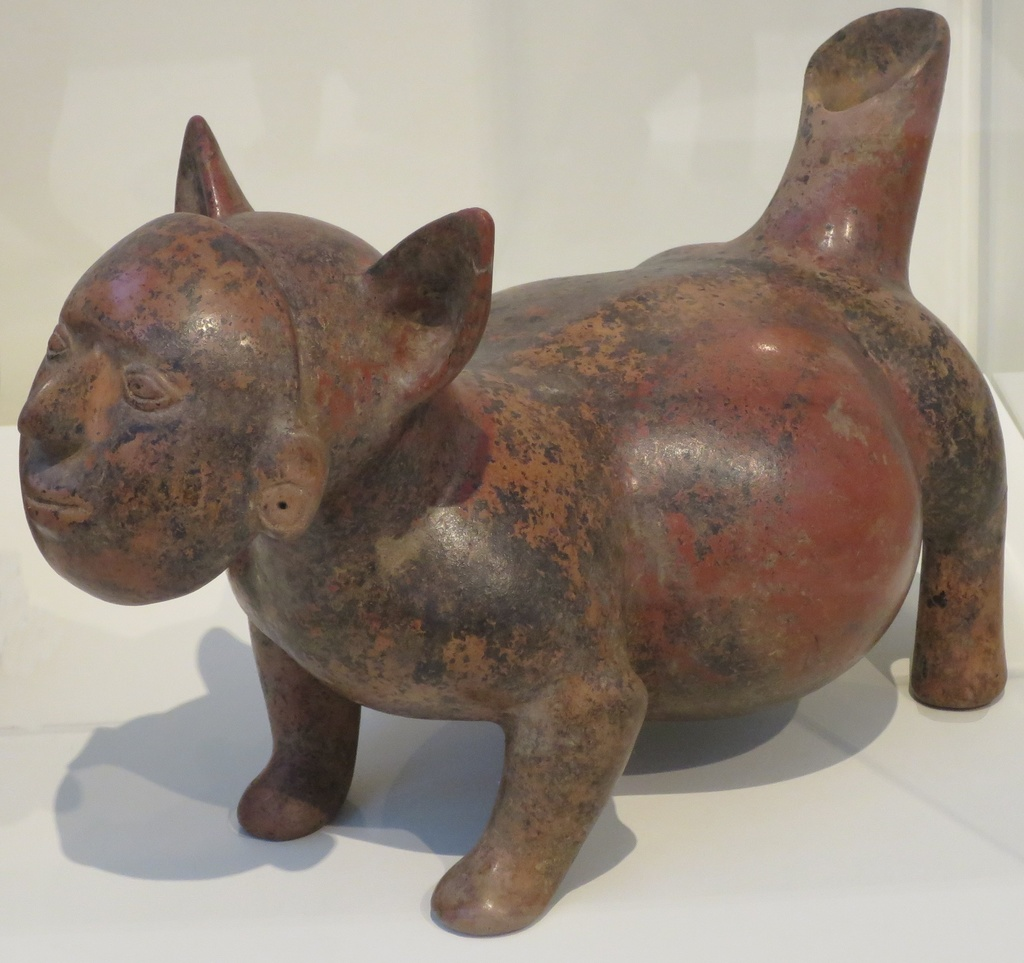Animal: (14, 0, 1013, 936)
